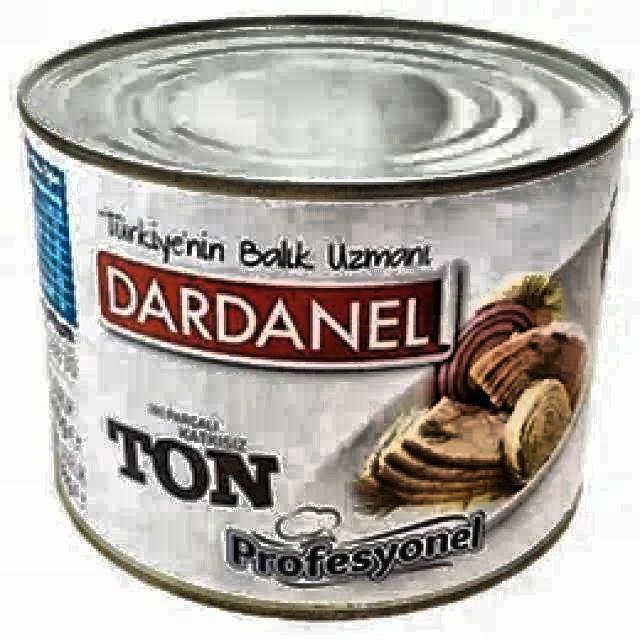metal: (16, 15, 632, 624)
